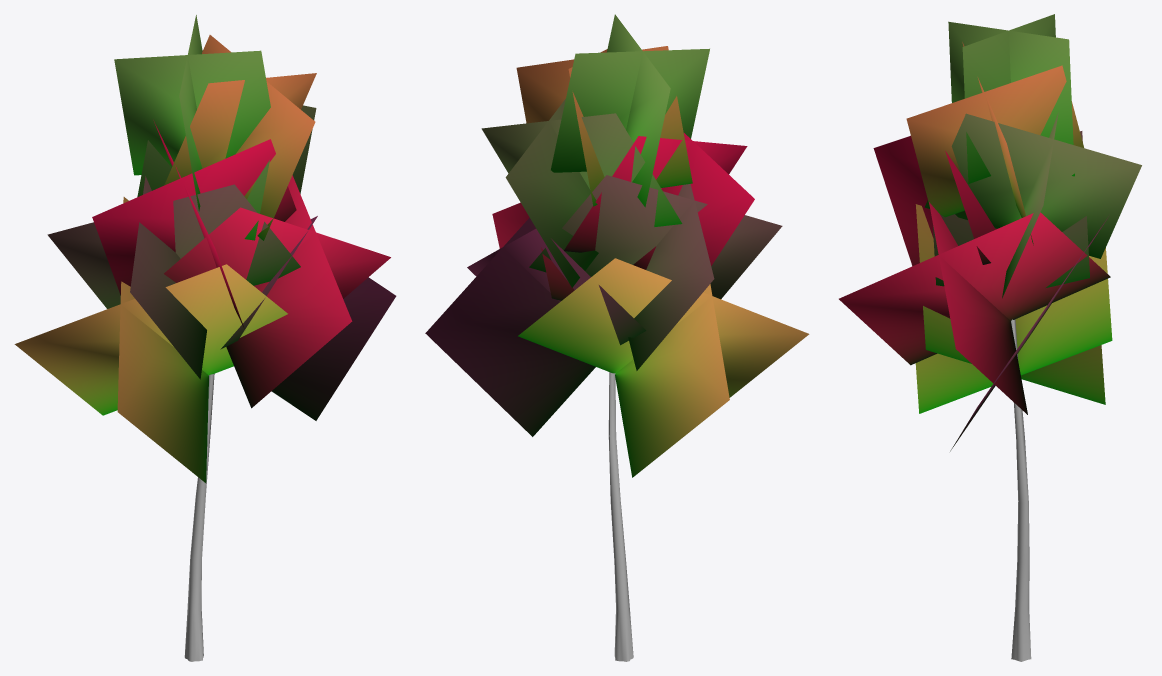
The model's file is Tree15_small.fbx.
The picture shows the model from 3 angles, left to right: view 1: azimuth 30°, elevation 25°; view 2: azimuth 150°, elevation 25°; view 3: azimuth 270°, elevation 25°; orthographic projection. The views are drawn at different scales.
Parts seen in each view (by area): view 1: Tree_1, Tree_0; view 2: Tree_1, Tree_0; view 3: Tree_1, Tree_0.
Boxes of the visible parts, x1=… form: Tree_1: x1=14, y1=15, x2=396, y2=482; Tree_0: x1=184, y1=373, x2=214, y2=661; Tree_1: x1=425, y1=14, x2=809, y2=477; Tree_0: x1=608, y1=372, x2=633, y2=661; Tree_1: x1=839, y1=14, x2=1141, y2=451; Tree_0: x1=1011, y1=319, x2=1031, y2=661.
Size of the model in its own units: 71.81 by 132 by 58.46.
